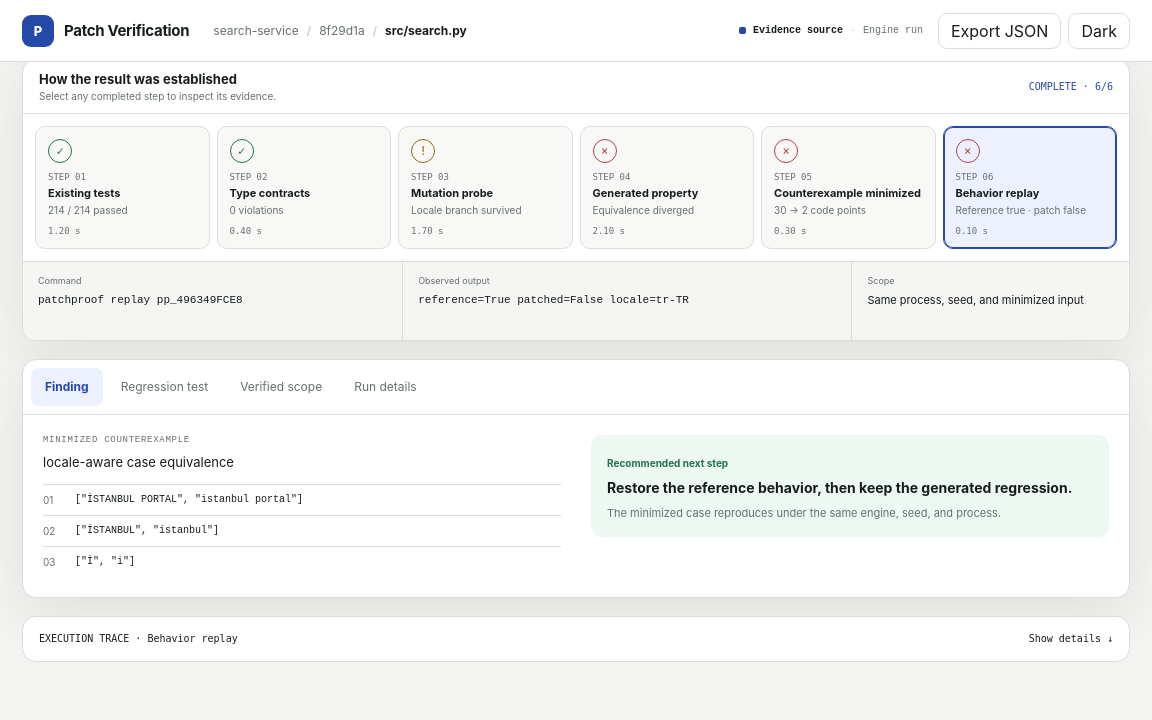
Scenario: Patch Verification forensic workbench › reports clipboard failures instead of claiming a successful copy
(page scrolled)
Click the tab "Regression test".
click(164, 387)  # box [107,368,222,406]
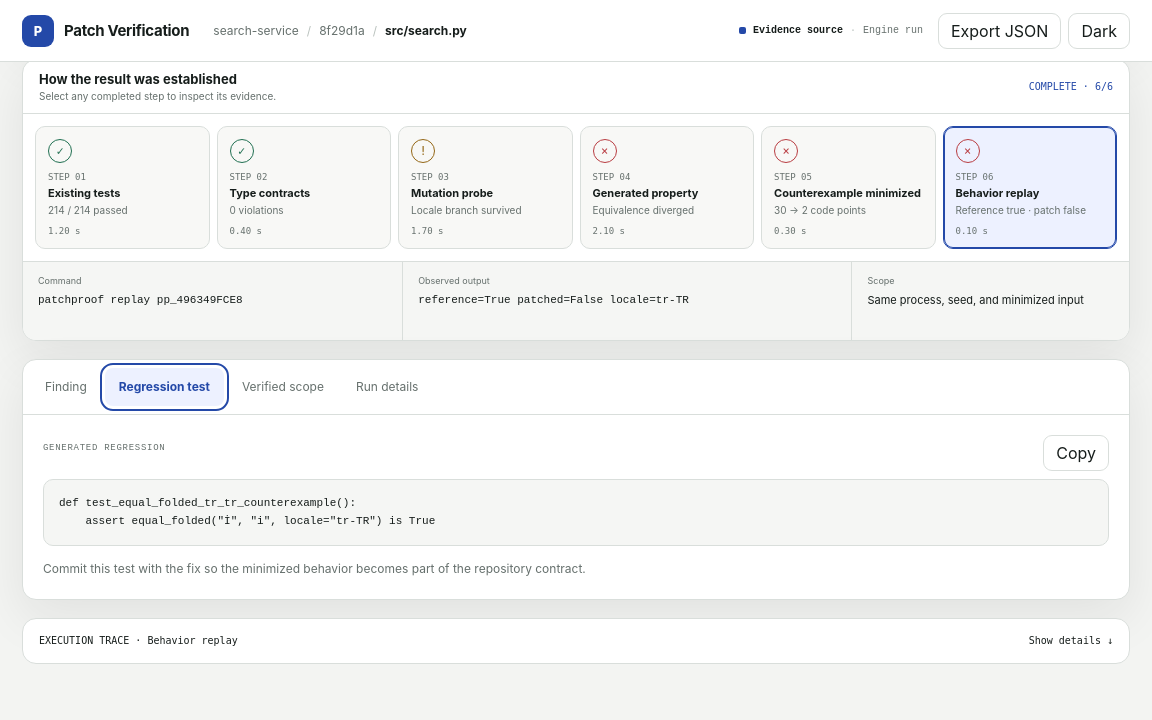
Click the button "Copy".
click(1076, 453)  # box [1043,435,1109,471]
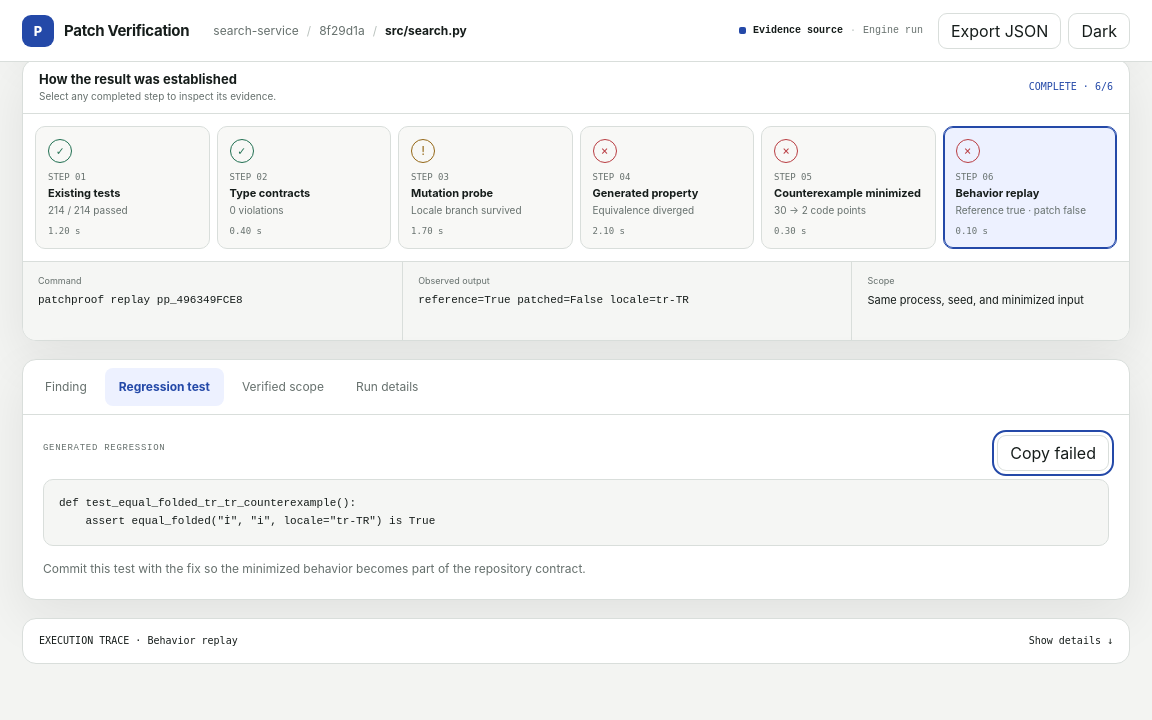
Check: the button "Copy failed" is shown, box [997,435,1109,471]
